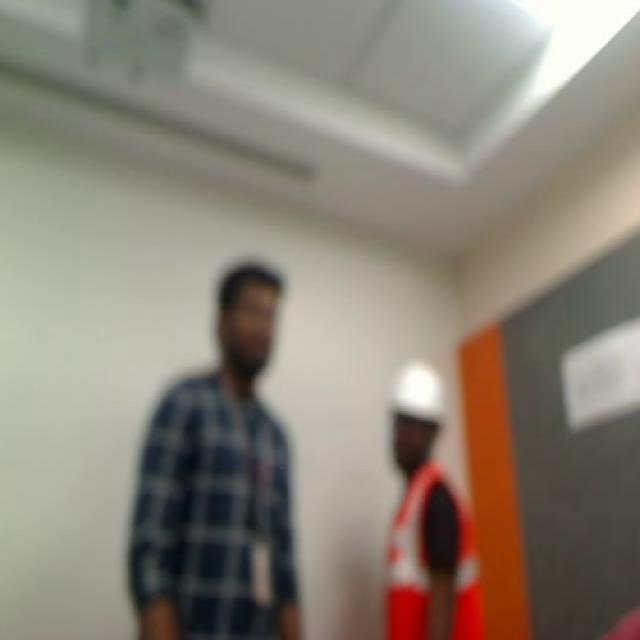safety_helmet: (385, 471, 484, 640)
